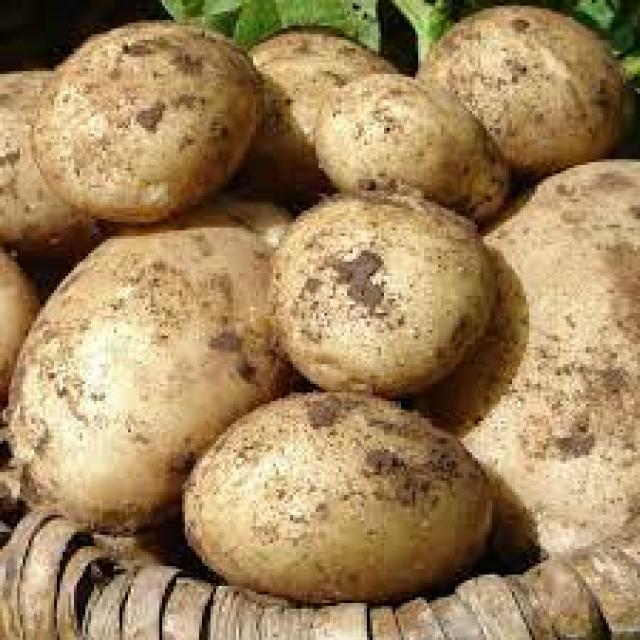Potato: (1, 210, 326, 488), (126, 417, 538, 612)
